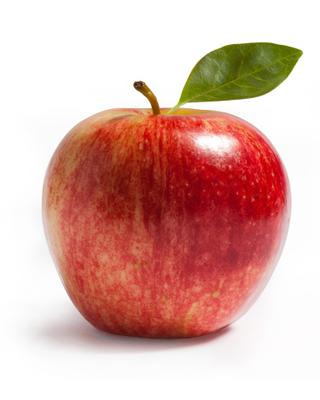apple: (0, 0, 320, 400)
